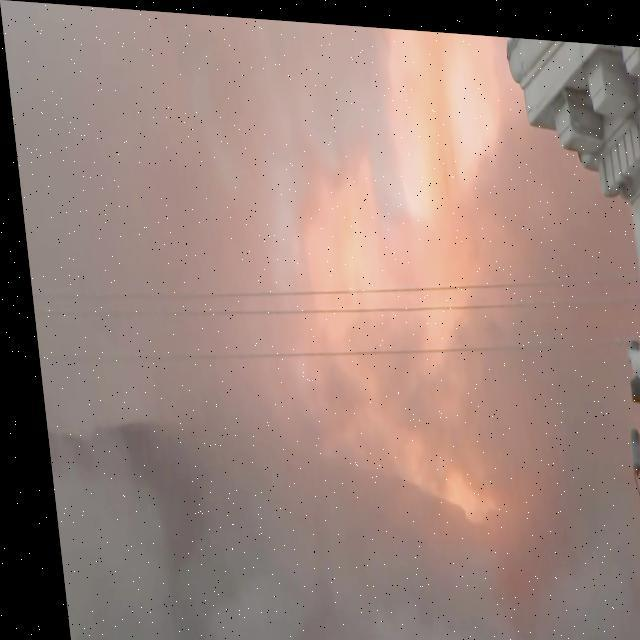Fire: (316, 78, 534, 540)
